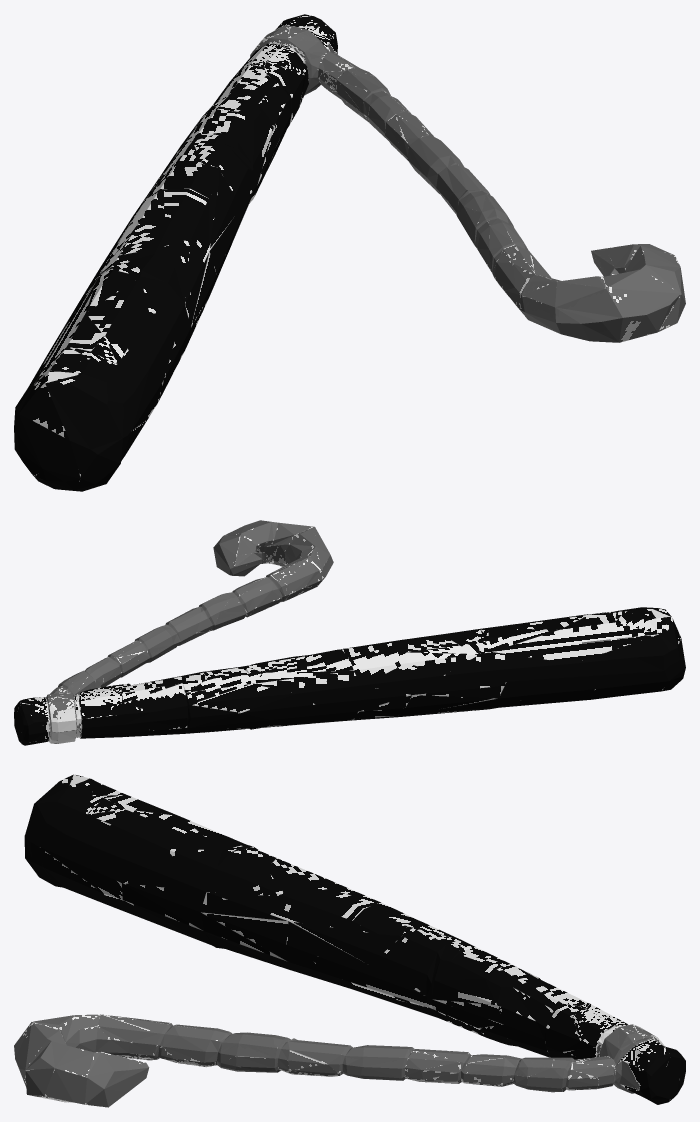
3 views of the same model, one above another, from view 1: azimuth 30°, elevation 25°; view 2: azimuth 150°, elevation 25°; view 3: azimuth 270°, elevation 25° (orthographic). The views are drawn at different scales.
Parts seen in each view (by area): view 1: OBJ12b; view 2: OBJ12b; view 3: OBJ12b.
Part boxes in pixels (x1,y1,x2,y2): OBJ12b: (14, 14, 685, 491); OBJ12b: (14, 520, 685, 745); OBJ12b: (14, 774, 685, 1107).
Bounding box in the file's own units: 0.3738 × 0.0606 × 0.3731.
Materials: 1 (1 with a texture image).
